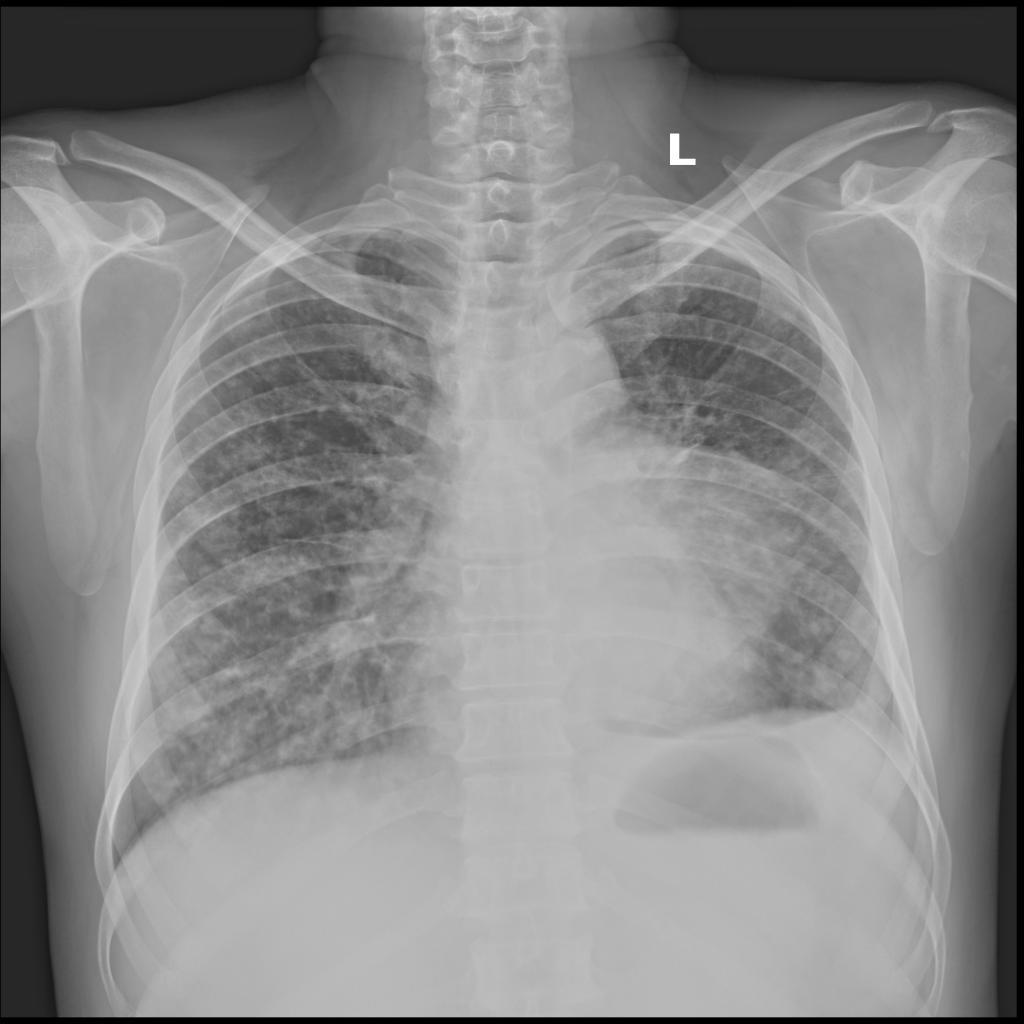Nodule: (585, 428, 791, 647)
